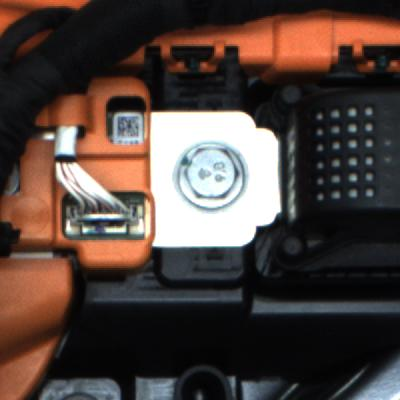nut_b: (174, 138, 251, 218)
